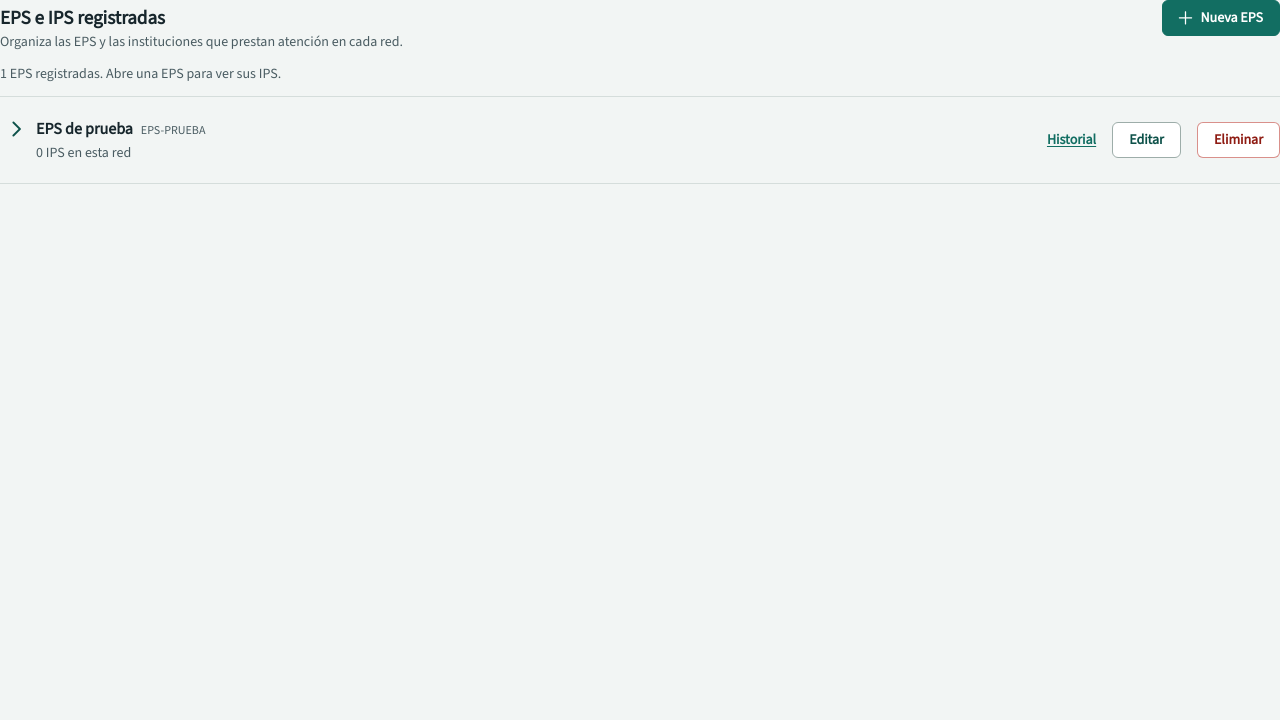
Scenario: keeps a failed restore available for retry
Step 1. Click the button with aria-label "Eliminar EPS de prueba" → point(1238, 140), box [1197, 122, 1279, 158]
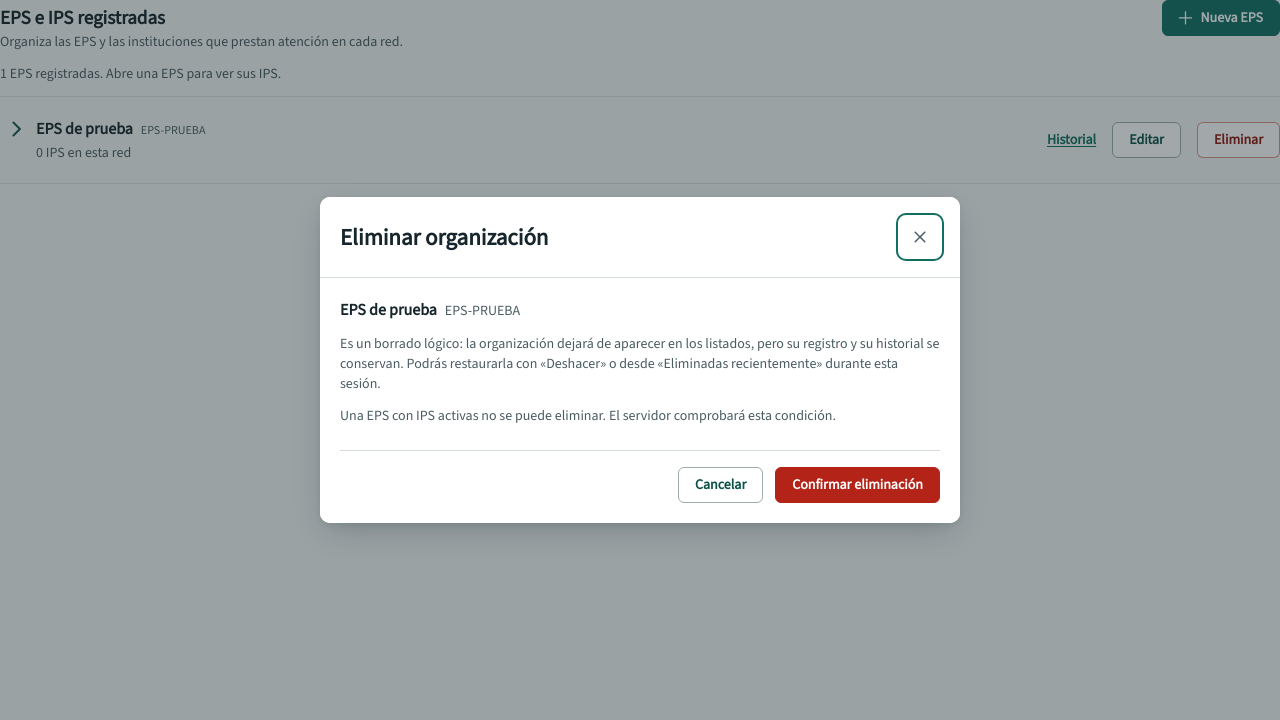
Check: the text "Es un borrado lógico" is shown, box [340, 334, 939, 393]
Step 2. Click the button "Confirmar eliminación" → point(858, 485), box [775, 467, 940, 503]
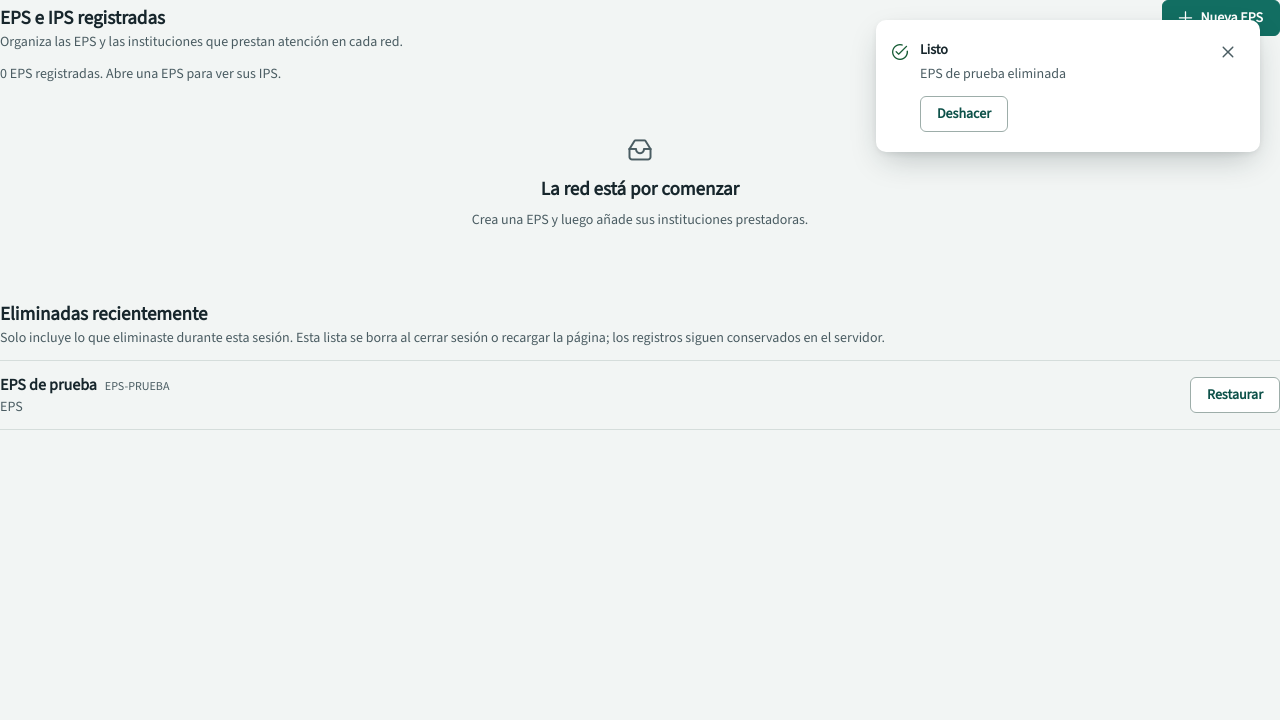
Check: the heading "Eliminadas recientemente" is shown, box [0, 301, 208, 326]
Step 3. Click the button "Deshacer" → point(964, 114), box [920, 96, 1008, 132]
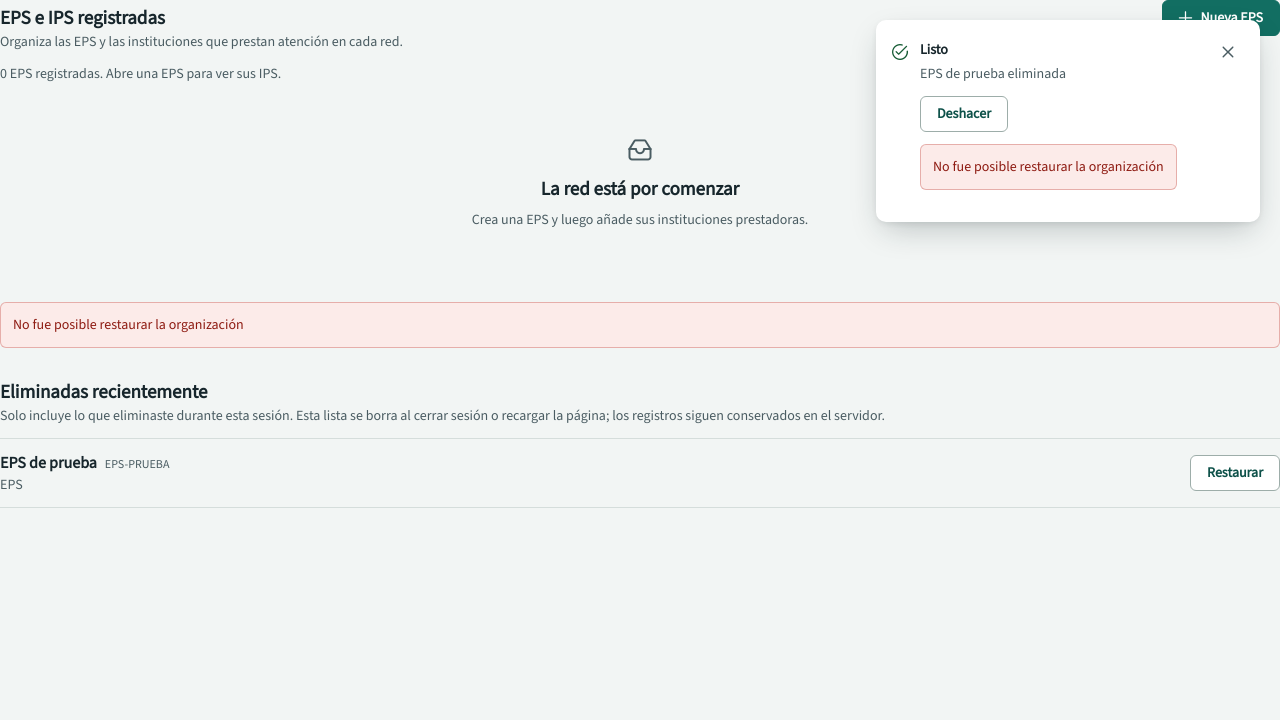
Check: the button with aria-label "Restaurar EPS de prueba" is enabled, box [1190, 454, 1279, 490]
Check: the text "No fue posible restaurar la organización" below "La red está por comenzar" is shown, box [13, 315, 244, 334]
